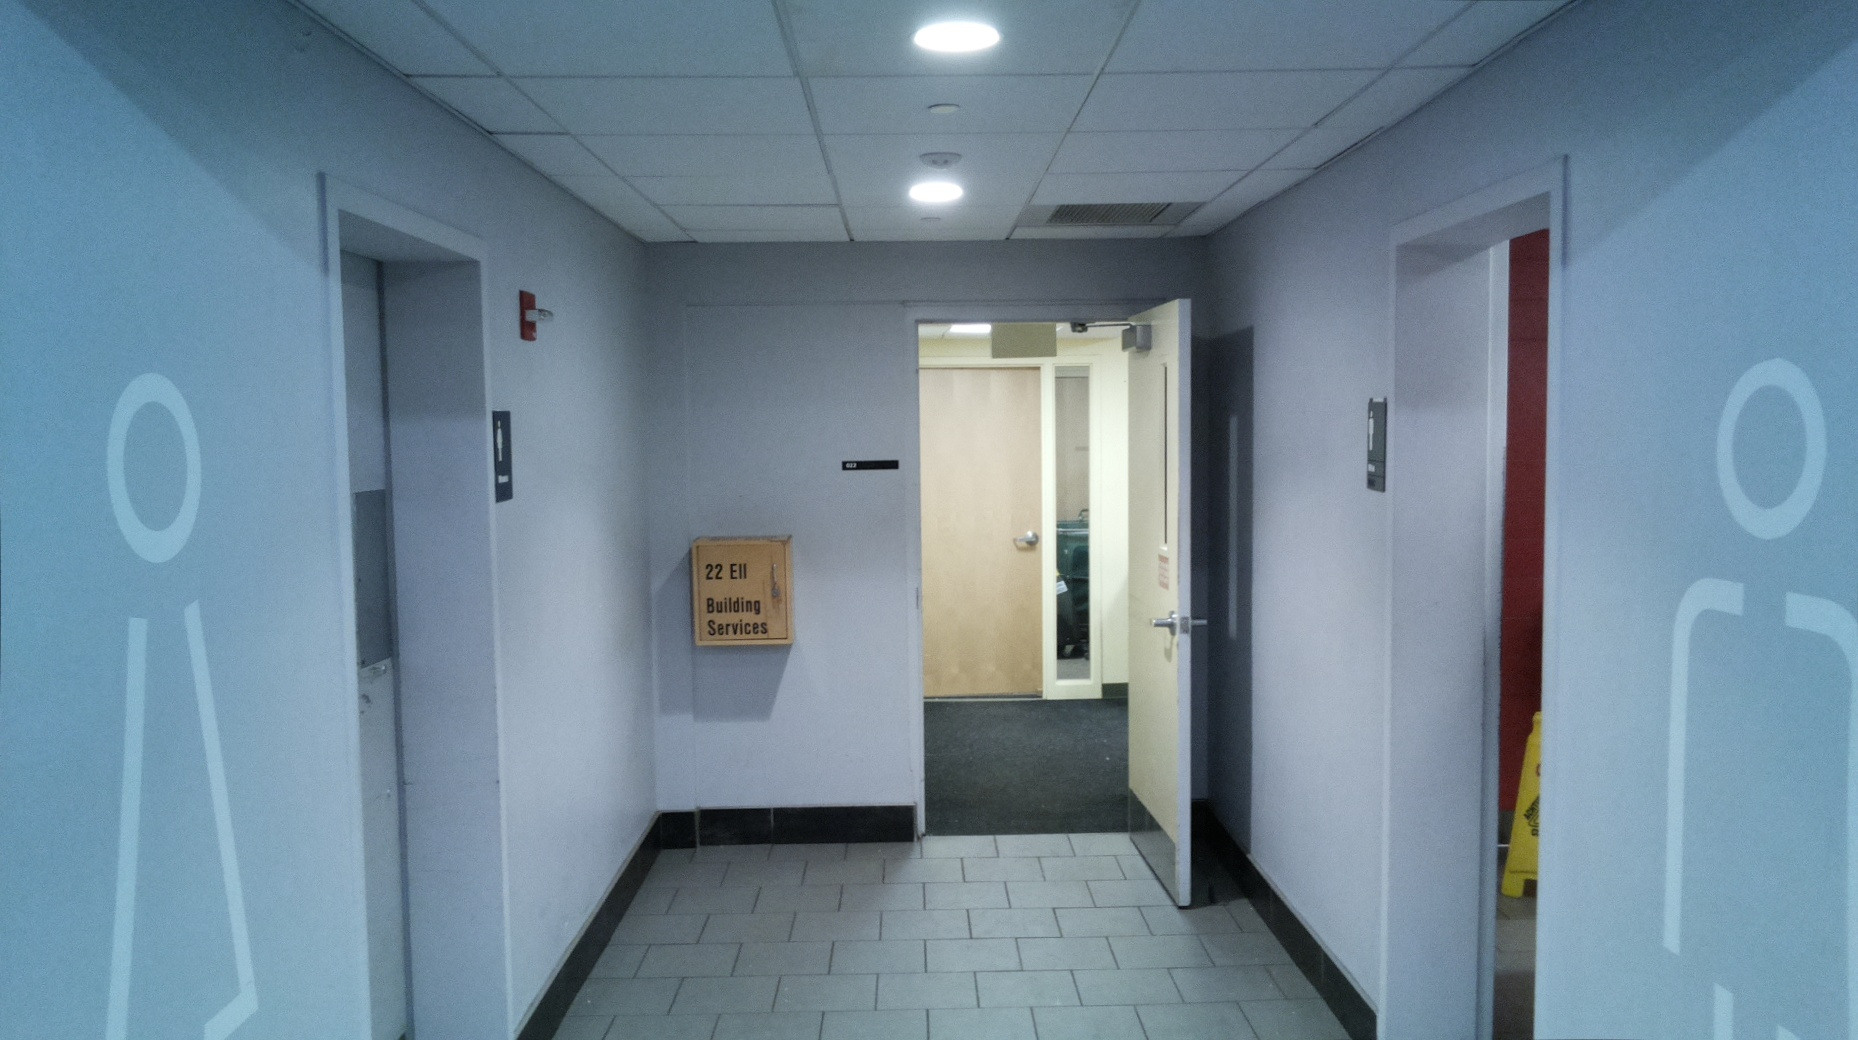bathroom sign: (1365, 396, 1388, 494), (491, 410, 514, 504)
